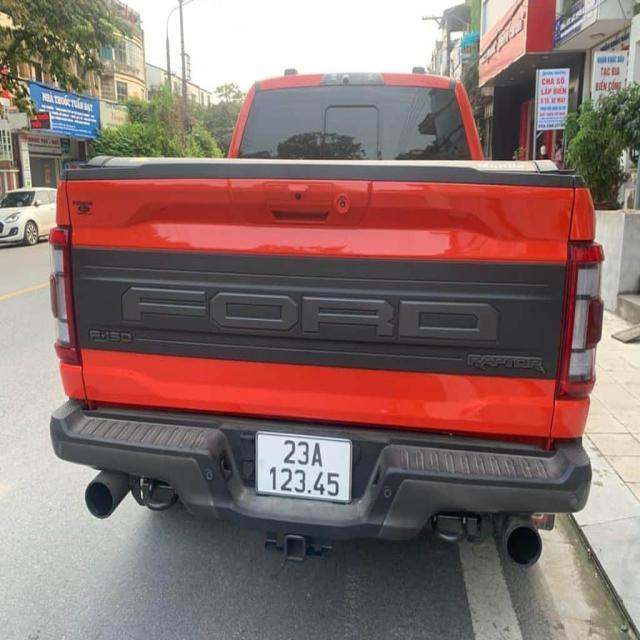car: (44, 63, 616, 575), (1, 184, 51, 248)
plate: (248, 428, 357, 505)
